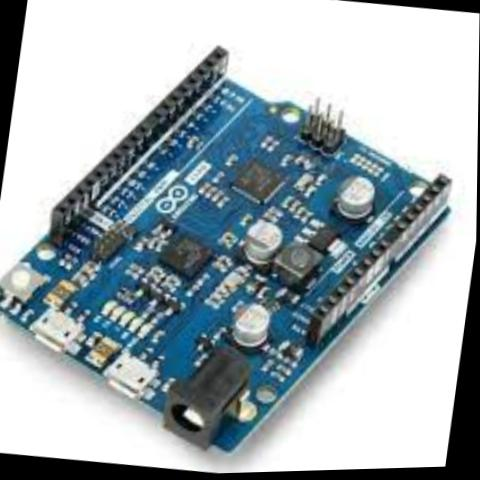Arduino-Zero: (0, 5, 472, 480)
